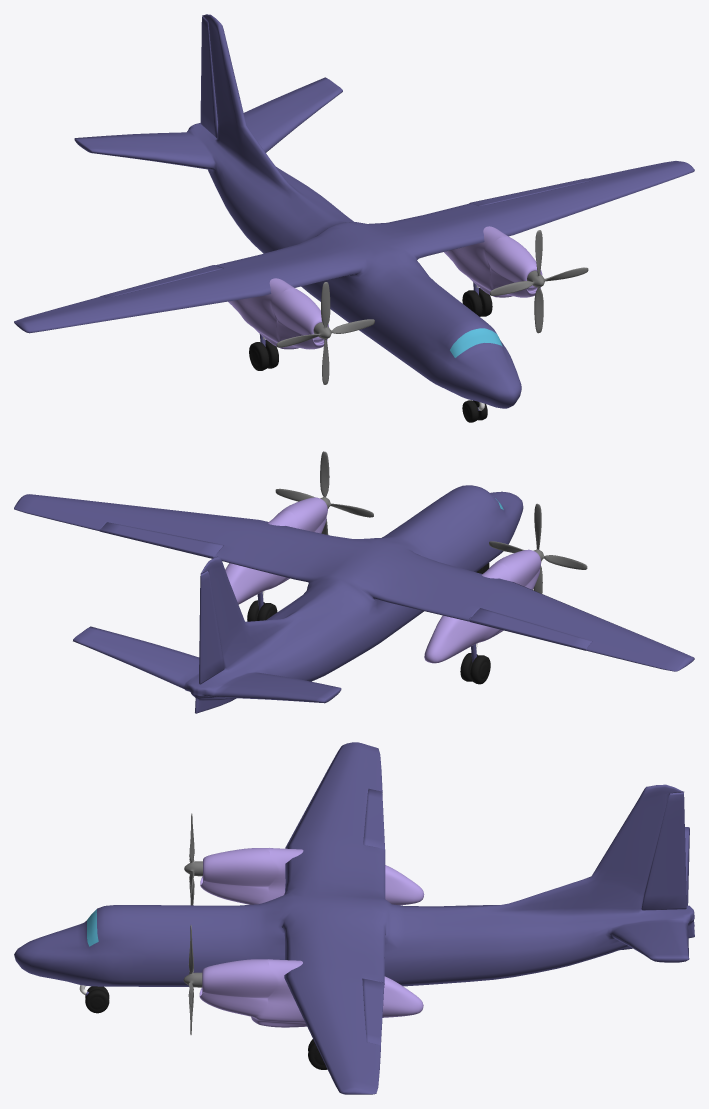
3 renders of one model, top to bottom at view 1: azimuth 30°, elevation 25°; view 2: azimuth 150°, elevation 25°; view 3: azimuth 270°, elevation 25°, orthographic. The views are drawn at different scales.
Visible parts, largest first — view 1: Plane.008, propeller.008, propeller2.008; view 2: Plane.008, propeller2.008, propeller.008; view 3: Plane.008, propeller.008, propeller2.008.
Part boxes in pixels (x1,y1,x2,y2): Plane.008: (14, 14, 694, 422); propeller.008: (490, 230, 588, 333); propeller2.008: (276, 282, 374, 384); Plane.008: (14, 485, 694, 713); propeller2.008: (489, 503, 587, 593); propeller.008: (275, 451, 373, 534); Plane.008: (14, 742, 694, 1094); propeller.008: (183, 925, 202, 1034); propeller2.008: (184, 813, 202, 905).
Bounding box in the file's own units: 512 × 154 × 422.
